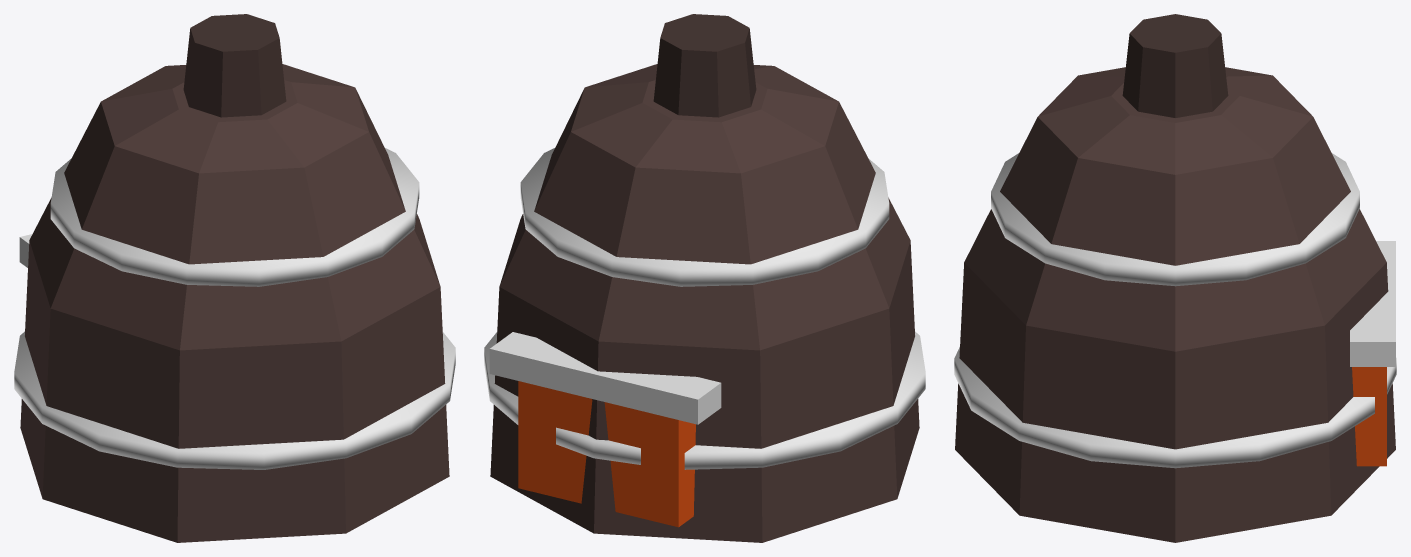
The model's file is cinder_forge_v0.glb.
The picture shows the model from 3 angles, left to right: view 1: azimuth 30°, elevation 25°; view 2: azimuth 150°, elevation 25°; view 3: azimuth 270°, elevation 25°; orthographic projection.
Visible parts, largest first — view 1: cinder_forge_v0; view 2: cinder_forge_v0; view 3: cinder_forge_v0.
Part boxes in pixels (x1,y1,x2,y2): cinder_forge_v0: [14, 14, 455, 542]; cinder_forge_v0: [484, 14, 925, 542]; cinder_forge_v0: [954, 14, 1396, 542].
Bounding box in the file's own units: 1.44 × 1.5 × 1.44.
